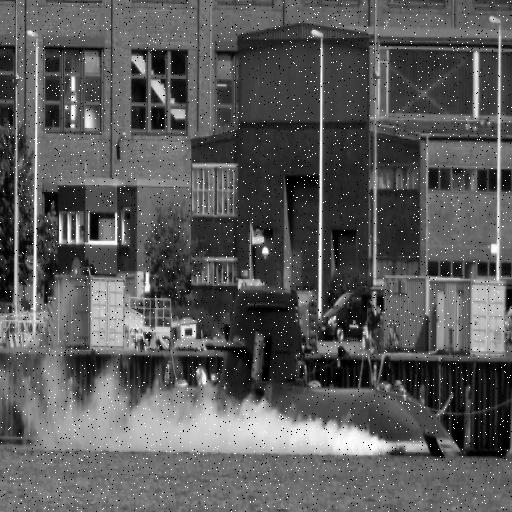submarine: (60, 290, 462, 460)
